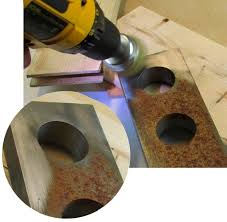rust: (127, 86, 227, 168), (46, 163, 124, 218)
